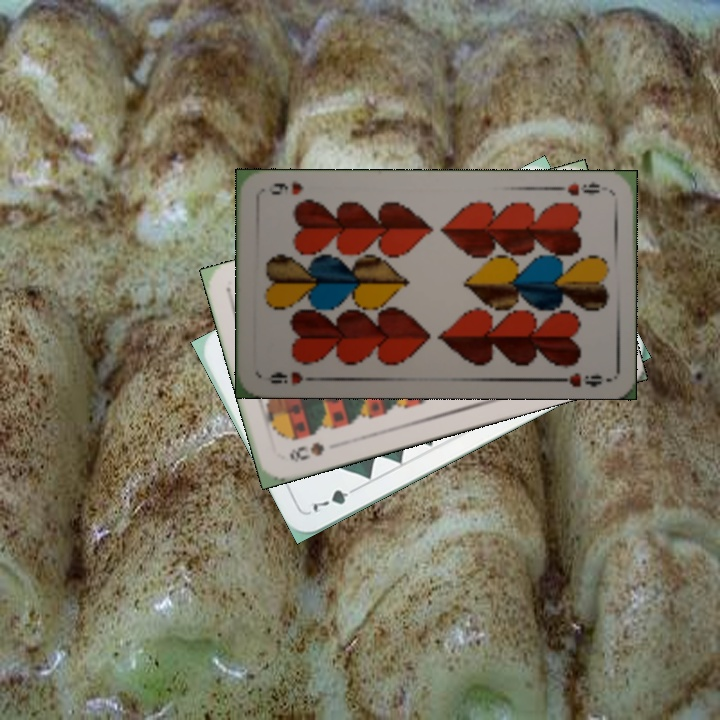G7: (308, 481, 363, 516)
H9: (263, 367, 319, 388), (551, 177, 602, 198)
S8: (285, 438, 327, 465)
